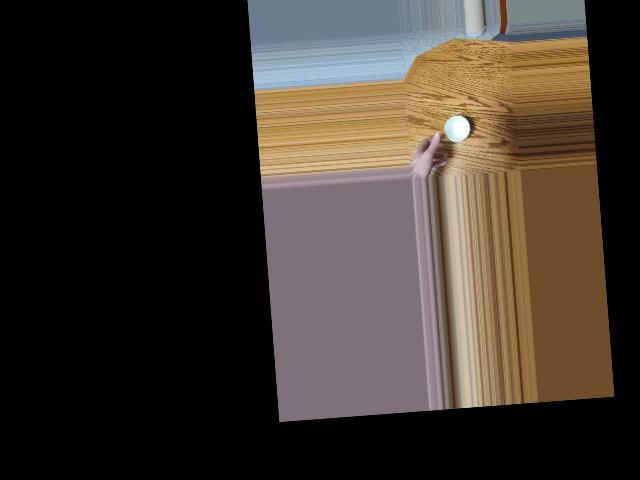cotage: (441, 108, 476, 149)
